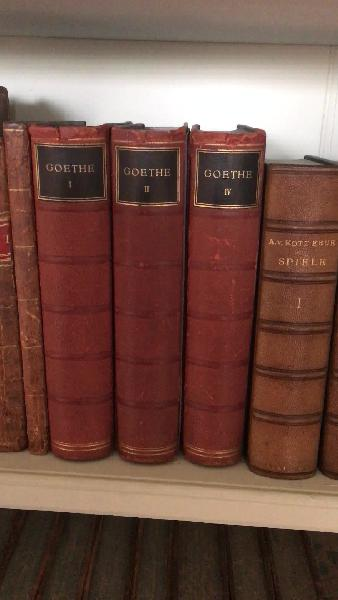Aa6-10: (2, 117, 56, 453)
Aa6-11_13: (28, 120, 258, 468)
